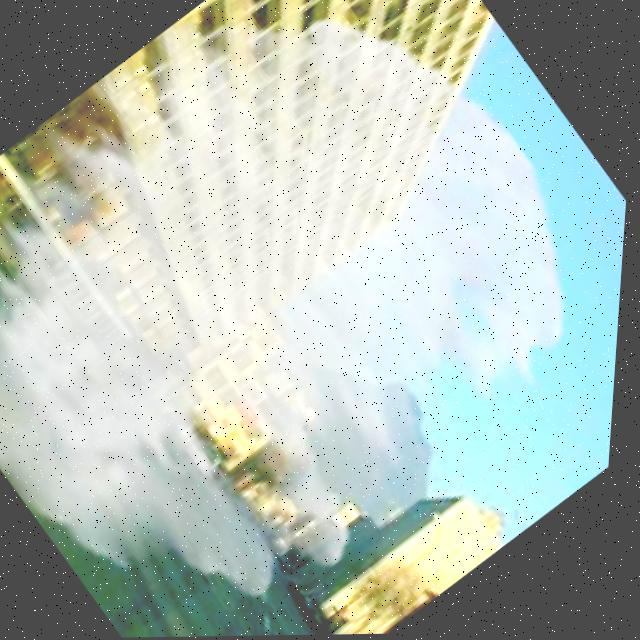Smoke: (0, 0, 624, 638)
